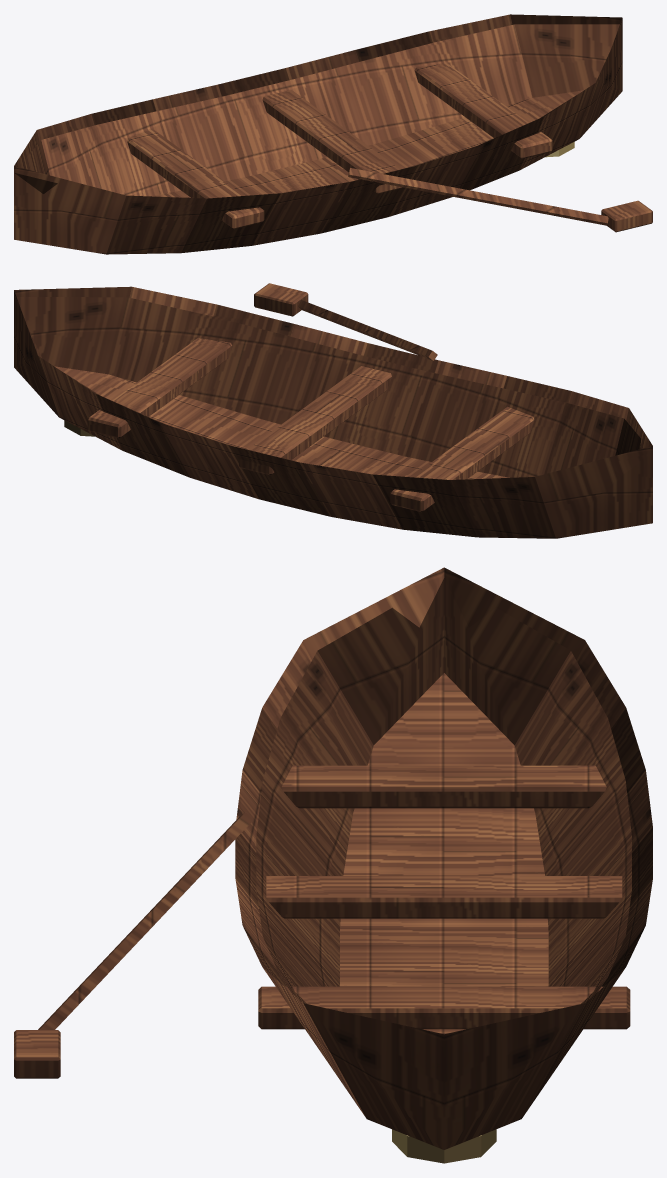
File: rowboat.glb
3 renders of one model, top to bottom at view 1: azimuth 30°, elevation 25°; view 2: azimuth 150°, elevation 25°; view 3: azimuth 270°, elevation 25°, orthographic. The views are drawn at different scales.
Visible parts, largest first — view 1: rowboat; view 2: rowboat; view 3: rowboat.
Part boxes in pixels (box(x1,y1,x2,y2)): rowboat: box(14, 14, 652, 254); rowboat: box(14, 283, 652, 538); rowboat: box(14, 567, 652, 1163).
Bounding box in the file's own units: 1.9 × 0.382 × 1.1.
6 materials, 6 textured.
